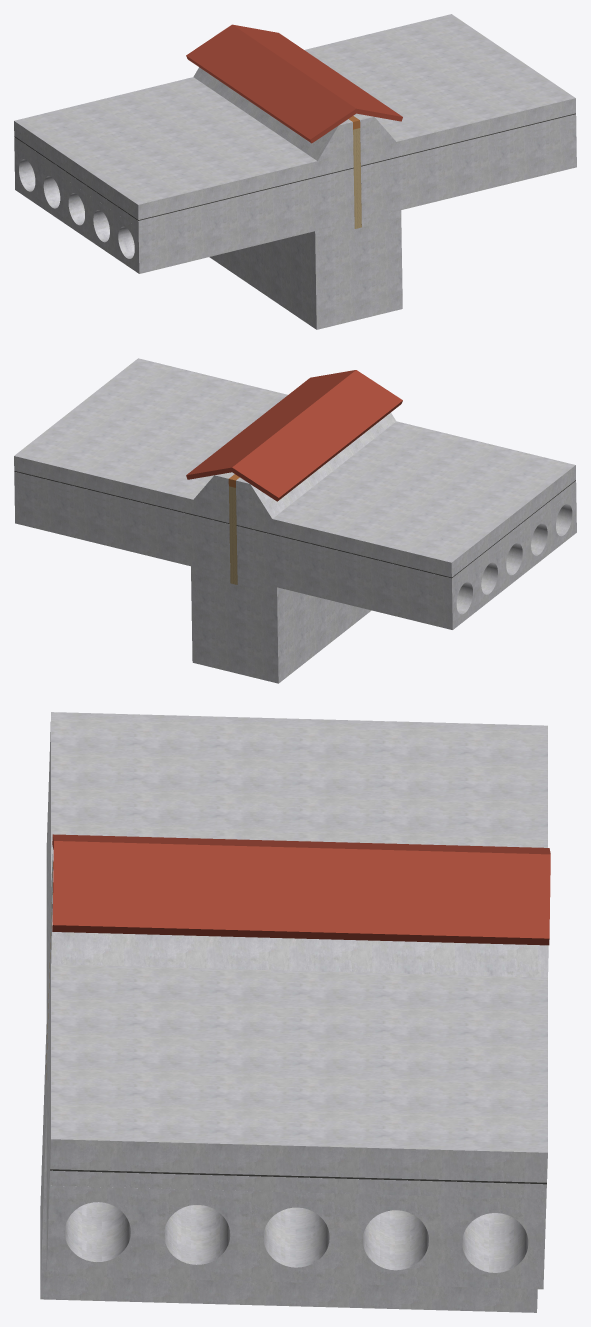
File: transverse-joint-02.glb
The picture shows the model from 3 angles, top to bottom: view 1: azimuth 30°, elevation 25°; view 2: azimuth 150°, elevation 25°; view 3: azimuth 270°, elevation 25°; orthographic projection. The views are drawn at different scales.
Parts seen in each view (by area): view 1: 细石混凝土刚性层, 空心屋面板, 承重支座, 折脊盖瓦, 水泥砂浆找平层, 浸沥青木丝板缝底填充, 纸筋灰隔离层, 支承座浆; view 2: 细石混凝土刚性层, 空心屋面板, 折脊盖瓦, 承重支座, 水泥砂浆找平层, 纸筋灰隔离层, 浸沥青木丝板缝底填充, 支承座浆; view 3: 细石混凝土刚性层, 折脊盖瓦, 空心屋面板, 承重支座, 水泥砂浆找平层, 纸筋灰隔离层.
Boxes of the visible parts, <box> form: 细石混凝土刚性层: <box>14,14,575,219</box>; 空心屋面板: <box>14,122,576,273</box>; 承重支座: <box>209,218,402,329</box>; 折脊盖瓦: <box>186,24,402,143</box>; 水泥砂浆找平层: <box>14,114,576,228</box>; 浸沥青木丝板缝底填充: <box>353,128,361,228</box>; 纸筋灰隔离层: <box>14,113,575,220</box>; 支承座浆: <box>307,210,401,238</box>; 细石混凝土刚性层: <box>14,358,575,577</box>; 空心屋面板: <box>14,479,576,629</box>; 折脊盖瓦: <box>186,370,402,501</box>; 承重支座: <box>191,574,371,683</box>; 水泥砂浆找平层: <box>14,471,576,585</box>; 纸筋灰隔离层: <box>14,471,575,578</box>; 浸沥青木丝板缝底填充: <box>229,486,237,584</box>; 支承座浆: <box>191,566,283,594</box>; 细石混凝土刚性层: <box>50,712,548,1182</box>; 折脊盖瓦: <box>52,834,550,945</box>; 空心屋面板: <box>46,762,546,1289</box>; 承重支座: <box>40,1044,537,1312</box>; 水泥砂浆找平层: <box>49,752,546,1199</box>; 纸筋灰隔离层: <box>50,1169,546,1184</box>.
Bounding box in the file's own units: 1.22 × 0.5727 × 0.6164.
9 materials, 6 textured.
